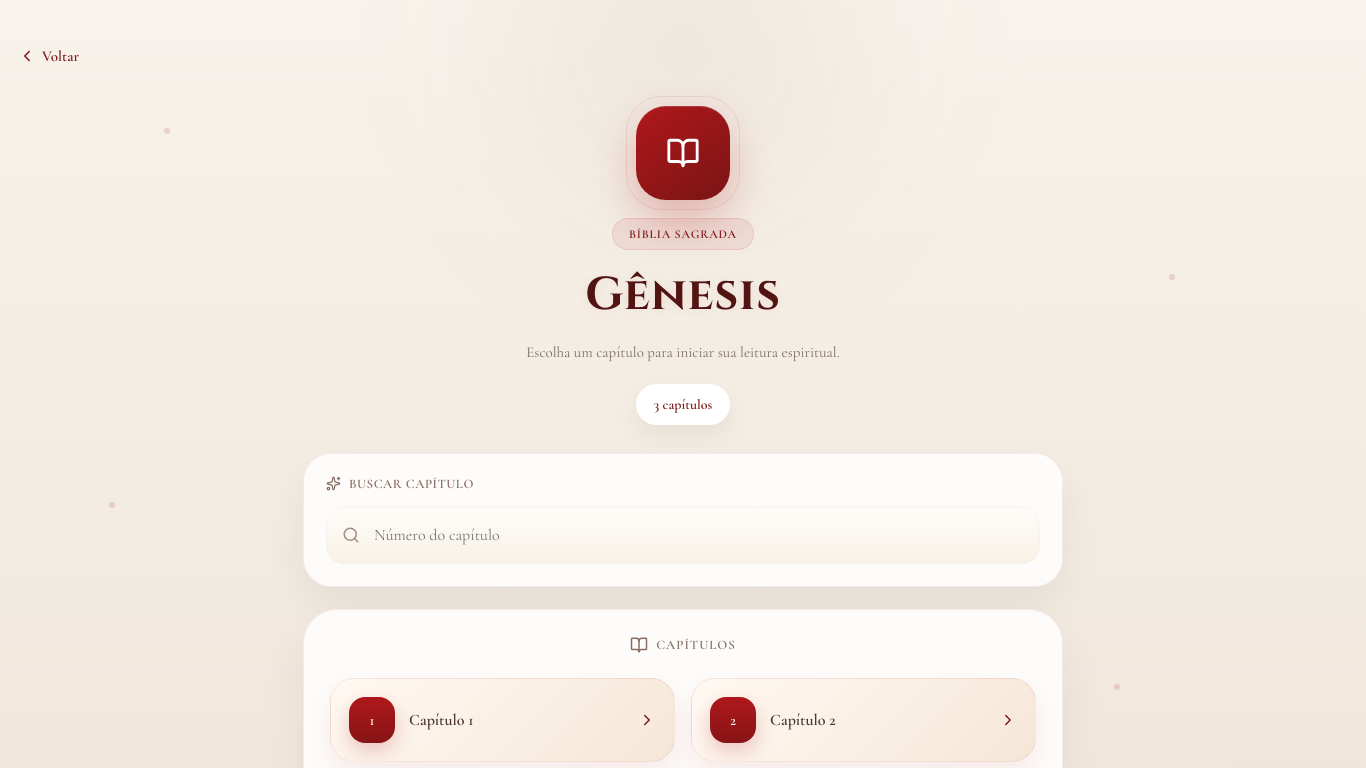
BibliaBook › filters chapters by number
The image size is (1366, 768).
Type "3" into the number field with placeholder "Número do capítulo" at (683, 534), box [326,506,1040,564]
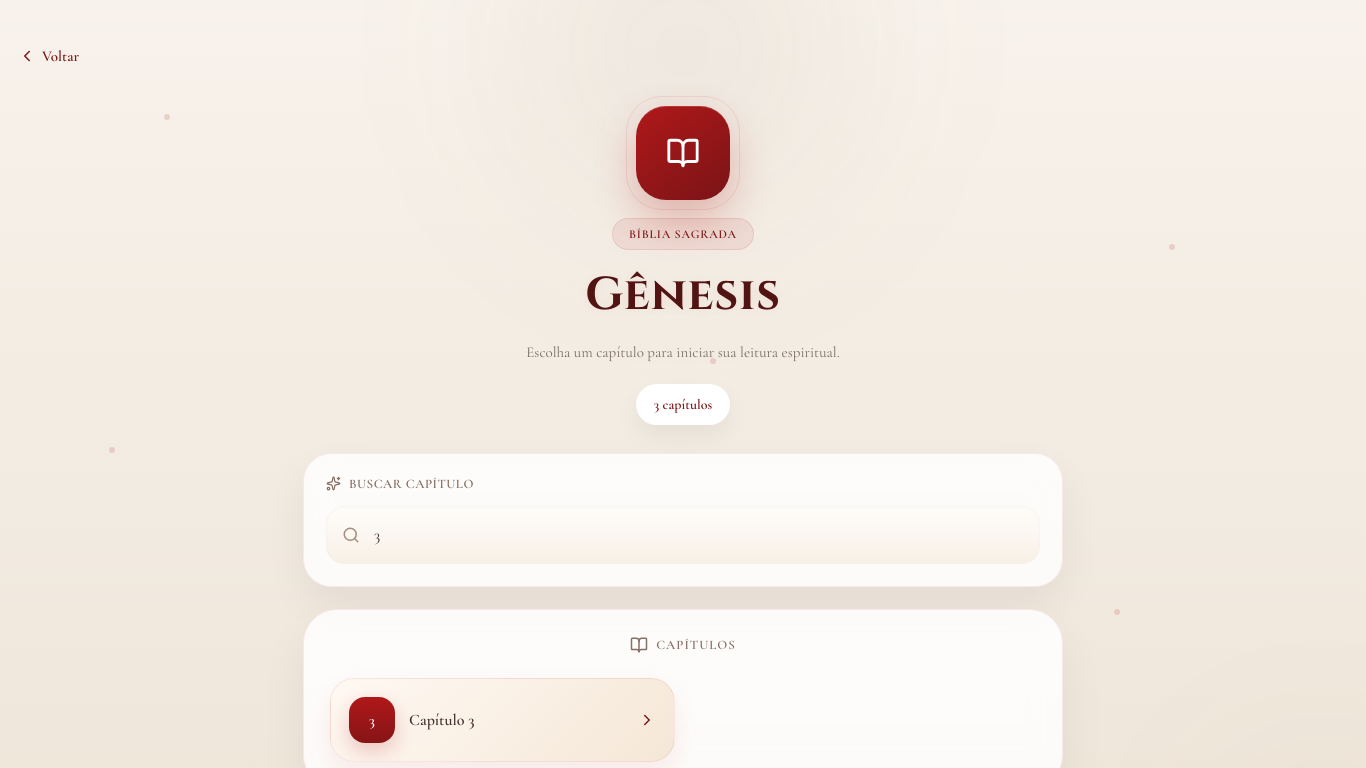
Expected: the text "Capítulo 3" is shown, [409,710,474,730]
Result: the button "Capítulo 1" is gone
